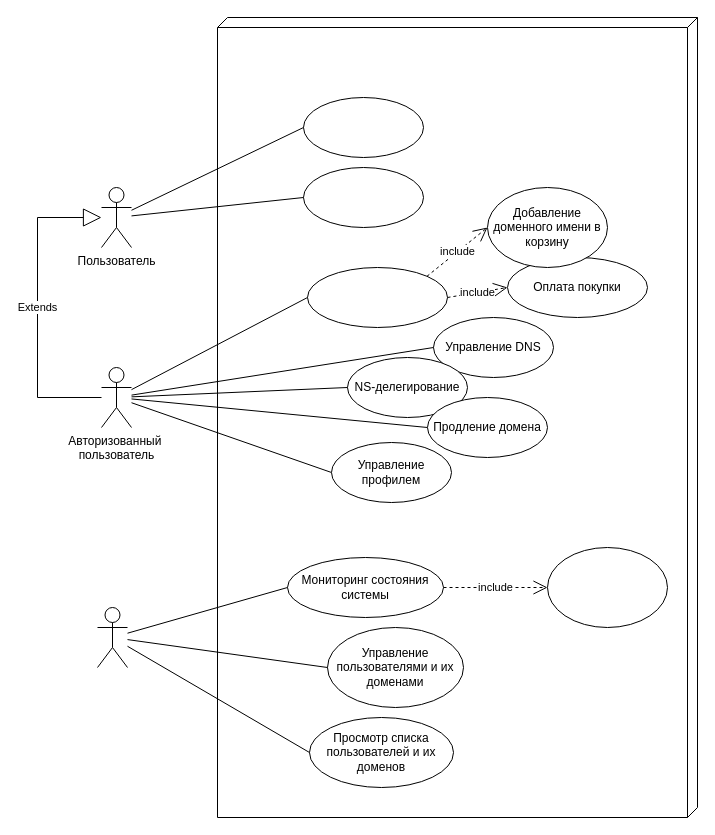
Image size: 715x835. Some labels were removed from this diagram. Here are the shapes that lost their labels. From the top down, the box of each, then its label:
(302, 96, 424, 158): Авторизация
(302, 166, 424, 228): Проверка доменного имени
(306, 266, 448, 328): Покупка доменного имени
(546, 546, 668, 628): Экспорт отчёта
(96, 606, 128, 668): Администратор
